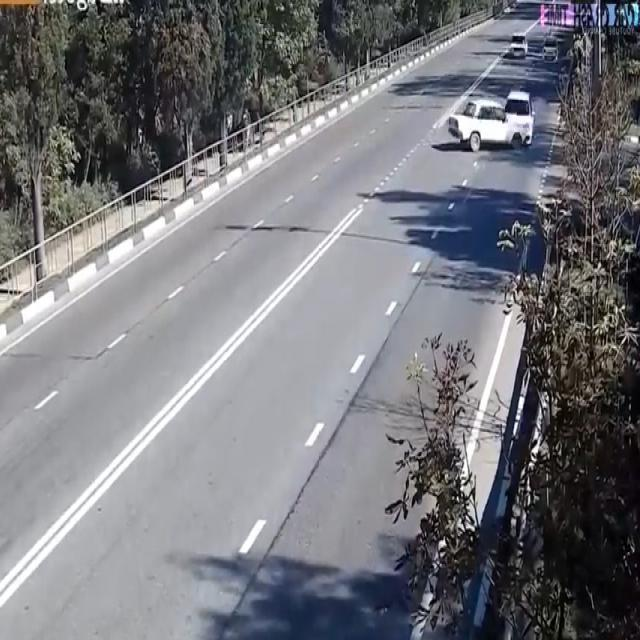multiple_accident: (450, 66, 561, 164)
